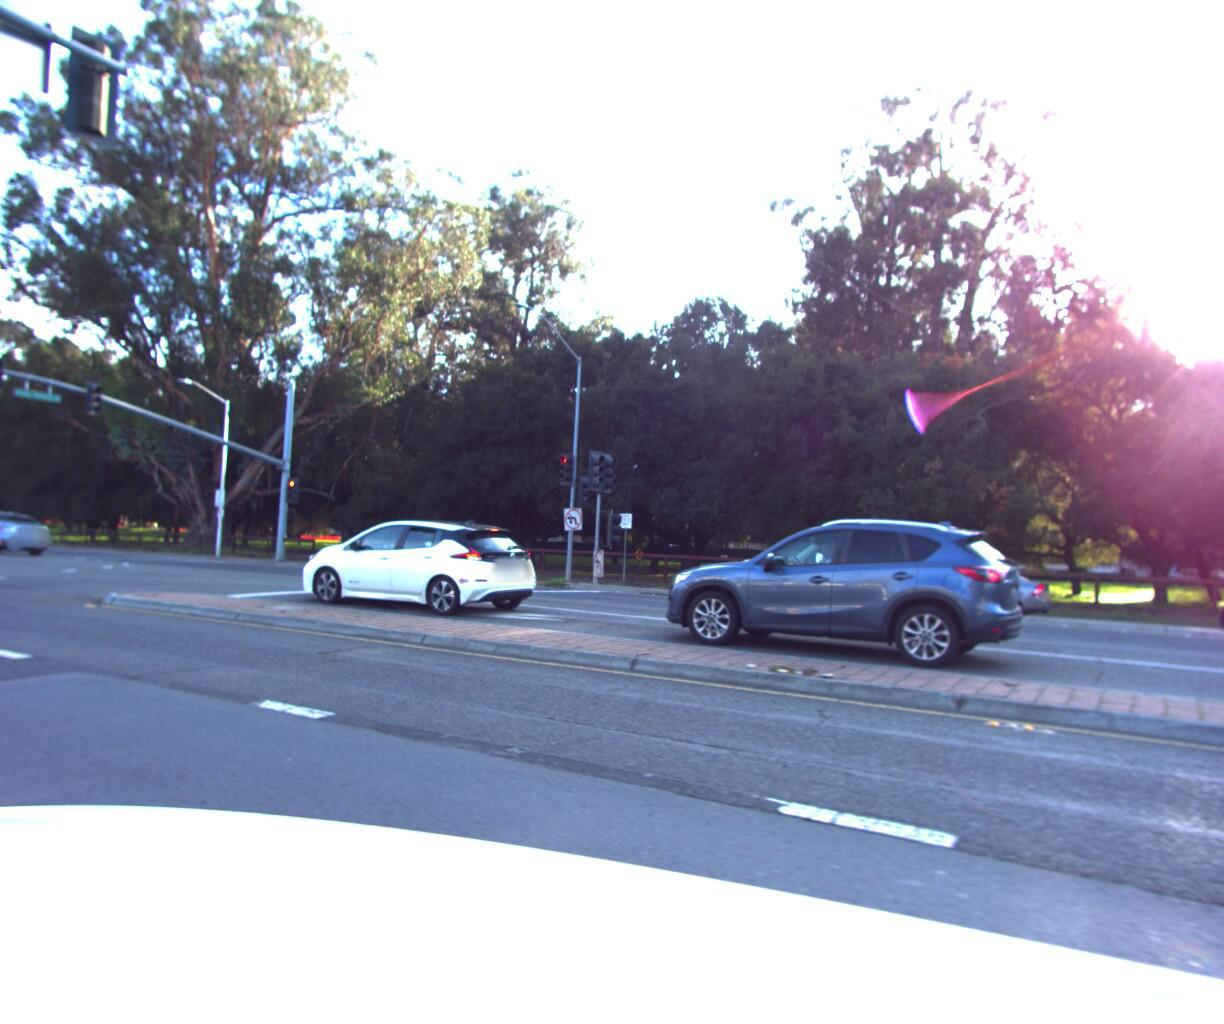car: (642, 506, 1031, 678), (285, 510, 550, 618), (872, 554, 1055, 619), (0, 513, 60, 561), (1211, 568, 1224, 650)
